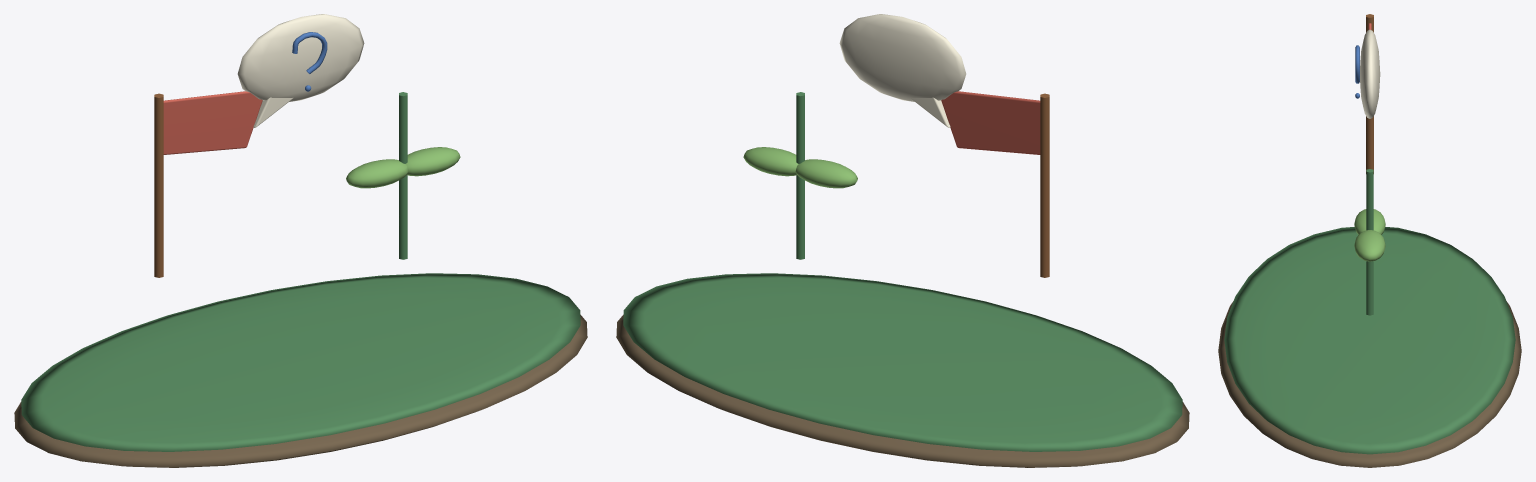
The model's file is complete-second-finally-unexpected.glb.
The picture shows the model from 3 angles, left to right: view 1: azimuth 30°, elevation 25°; view 2: azimuth 150°, elevation 25°; view 3: azimuth 270°, elevation 25°; orthographic projection. The views are drawn at different scales.
Visible parts, largest first — view 1: complete-second-finally-unexpected_surface_01, complete-second-finally-unexpected_surface_00, complete-second-finally-unexpected_surface_05, complete-second-finally-unexpected_surface_03, complete-second-finally-unexpected_surface_04, complete-second-finally-unexpected_surface_02; view 2: complete-second-finally-unexpected_surface_01, complete-second-finally-unexpected_surface_00, complete-second-finally-unexpected_surface_05, complete-second-finally-unexpected_surface_03, complete-second-finally-unexpected_surface_04, complete-second-finally-unexpected_surface_02; view 3: complete-second-finally-unexpected_surface_01, complete-second-finally-unexpected_surface_00, complete-second-finally-unexpected_surface_05, complete-second-finally-unexpected_surface_04, complete-second-finally-unexpected_surface_02.
Boxes of the visible parts, x1=… form: complete-second-finally-unexpected_surface_01: x1=21, y1=92, x2=580, y2=451; complete-second-finally-unexpected_surface_00: x1=14, y1=314, x2=587, y2=467; complete-second-finally-unexpected_surface_05: x1=237, y1=14, x2=364, y2=127; complete-second-finally-unexpected_surface_03: x1=163, y1=91, x2=262, y2=154; complete-second-finally-unexpected_surface_04: x1=346, y1=147, x2=460, y2=188; complete-second-finally-unexpected_surface_02: x1=154, y1=93, x2=163, y2=277; complete-second-finally-unexpected_surface_01: x1=623, y1=92, x2=1182, y2=451; complete-second-finally-unexpected_surface_00: x1=616, y1=314, x2=1189, y2=467; complete-second-finally-unexpected_surface_05: x1=839, y1=14, x2=966, y2=127; complete-second-finally-unexpected_surface_03: x1=941, y1=91, x2=1040, y2=154; complete-second-finally-unexpected_surface_04: x1=743, y1=147, x2=857, y2=188; complete-second-finally-unexpected_surface_02: x1=1040, y1=93, x2=1049, y2=277; complete-second-finally-unexpected_surface_01: x1=1224, y1=169, x2=1515, y2=454; complete-second-finally-unexpected_surface_00: x1=1218, y1=301, x2=1521, y2=467; complete-second-finally-unexpected_surface_05: x1=1360, y1=29, x2=1380, y2=118; complete-second-finally-unexpected_surface_04: x1=1354, y1=209, x2=1385, y2=261; complete-second-finally-unexpected_surface_02: x1=1366, y1=14, x2=1373, y2=173.
Bounding box in the file's own units: 4.56 × 2.98 × 2.5.
